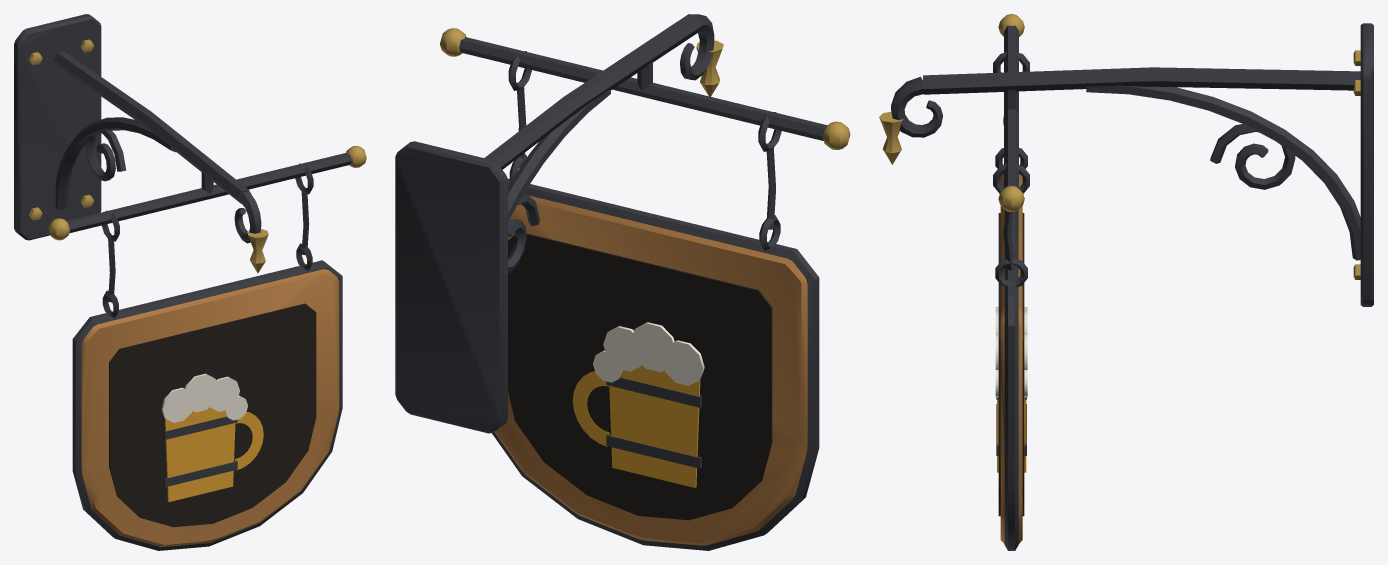
Rendered from deco_shop_sign_hanging.fbx.
3 renders of one model, left to right at view 1: azimuth 30°, elevation 25°; view 2: azimuth 150°, elevation 25°; view 3: azimuth 270°, elevation 25°, orthographic. The views are drawn at different scales.
Visible parts, largest first — view 1: ShopSign_Hanging_Board, ShopSign_Hanging_Bracket; view 2: ShopSign_Hanging_Board, ShopSign_Hanging_Bracket; view 3: ShopSign_Hanging_Bracket, ShopSign_Hanging_Board.
Boxes of the visible parts, x1=… form: ShopSign_Hanging_Board: x1=72, y1=163, x2=342, y2=550; ShopSign_Hanging_Bracket: x1=14, y1=14, x2=366, y2=273; ShopSign_Hanging_Board: x1=492, y1=51, x2=819, y2=550; ShopSign_Hanging_Bracket: x1=395, y1=14, x2=850, y2=433; ShopSign_Hanging_Bracket: x1=879, y1=14, x2=1373, y2=306; ShopSign_Hanging_Board: x1=993, y1=50, x2=1029, y2=550.
Bounding box in the file's own units: 98 × 122 × 112.
